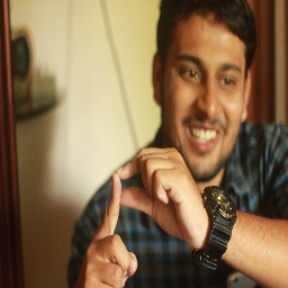P: (83, 141, 200, 288)
